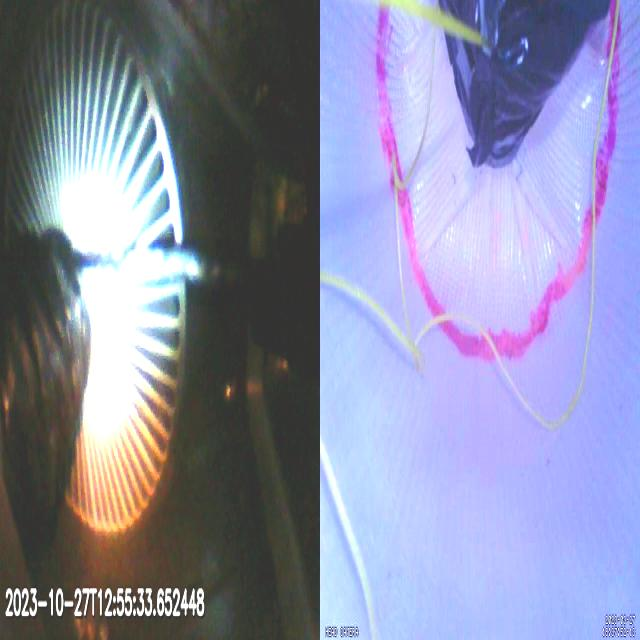red-circle: (376, 5, 623, 361)
